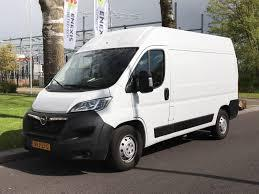opel: (38, 113, 49, 125)
